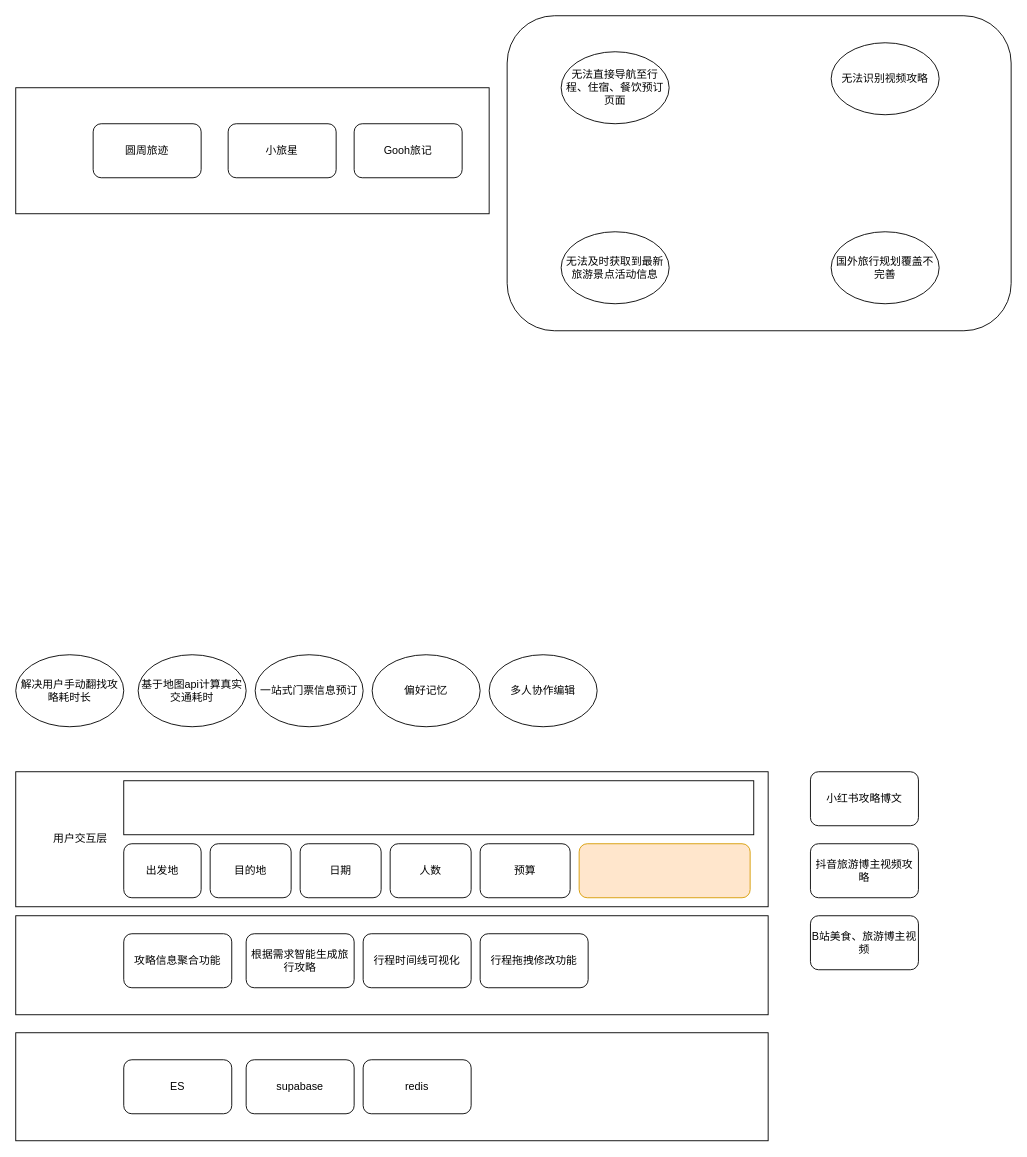
This 1027x1157 diagram has some shape labels left out. The shapes that lost their labels are listed below. From the top down, each one's box as (x1, y1, x2, y2) in pixels, then its label:
(15, 87, 489, 214): 竞品
(506, 15, 1011, 331): 缺陷分析
(123, 780, 754, 835): 根据用户输入生成旅游攻略，同时展示引用的攻略来源
(578, 843, 750, 898): 特殊需求如带60岁父母、凌晨看日出
(15, 915, 768, 1015): 功能模块
(15, 1032, 768, 1141): 存储方式
